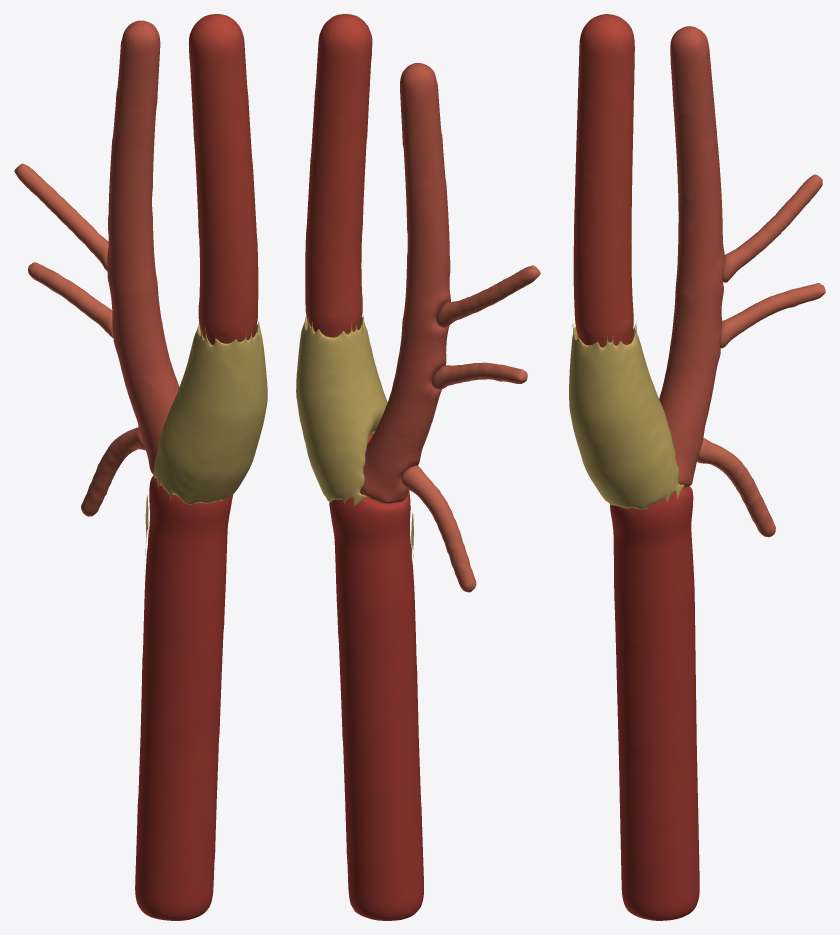
File: carotid_stenosis_moderate.glb
3 renders of one model, left to right at view 1: azimuth 30°, elevation 25°; view 2: azimuth 210°, elevation 25°; view 3: azimuth 270°, elevation 25°, orthographic. The views are drawn at different scales.
Parts seen in each view (by area): view 1: common_carotid, external_carotid, internal_carotid, plaque, eca_branches; view 2: common_carotid, external_carotid, internal_carotid, plaque, eca_branches; view 3: common_carotid, external_carotid, internal_carotid, plaque, eca_branches.
Part boxes in pixels (<box>): common_carotid: <box>135,475,232,920</box>; external_carotid: <box>107,20,179,474</box>; internal_carotid: <box>188,14,258,344</box>; plaque: <box>145,322,267,554</box>; eca_branches: <box>14,163,145,516</box>; common_carotid: <box>329,491,423,920</box>; external_carotid: <box>360,63,450,503</box>; internal_carotid: <box>305,14,372,494</box>; plaque: <box>296,315,413,560</box>; eca_branches: <box>401,265,540,592</box>; common_carotid: <box>610,486,699,920</box>; external_carotid: <box>659,26,724,487</box>; internal_carotid: <box>573,14,634,347</box>; plaque: <box>569,323,684,509</box>; eca_branches: <box>697,174,825,537</box>.
Bounding box in the file's own units: 2.91 × 17.66 × 4.56.
